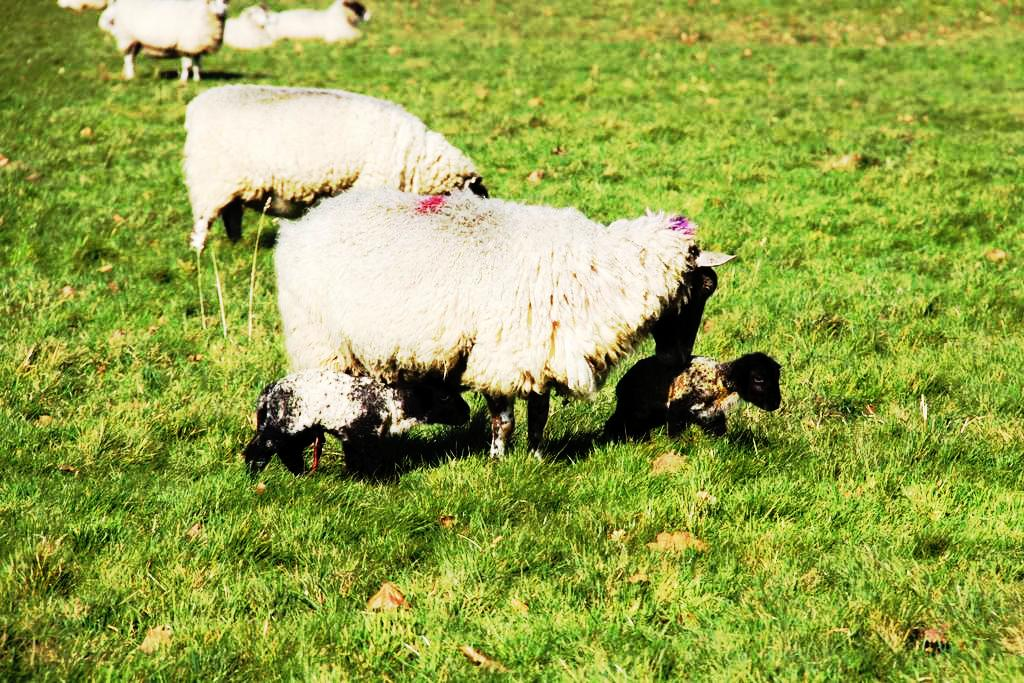Sheep: (276, 183, 736, 466), (182, 83, 496, 255), (240, 369, 483, 479), (594, 352, 784, 449), (94, 0, 231, 83), (268, 0, 372, 42), (222, 0, 279, 48)
